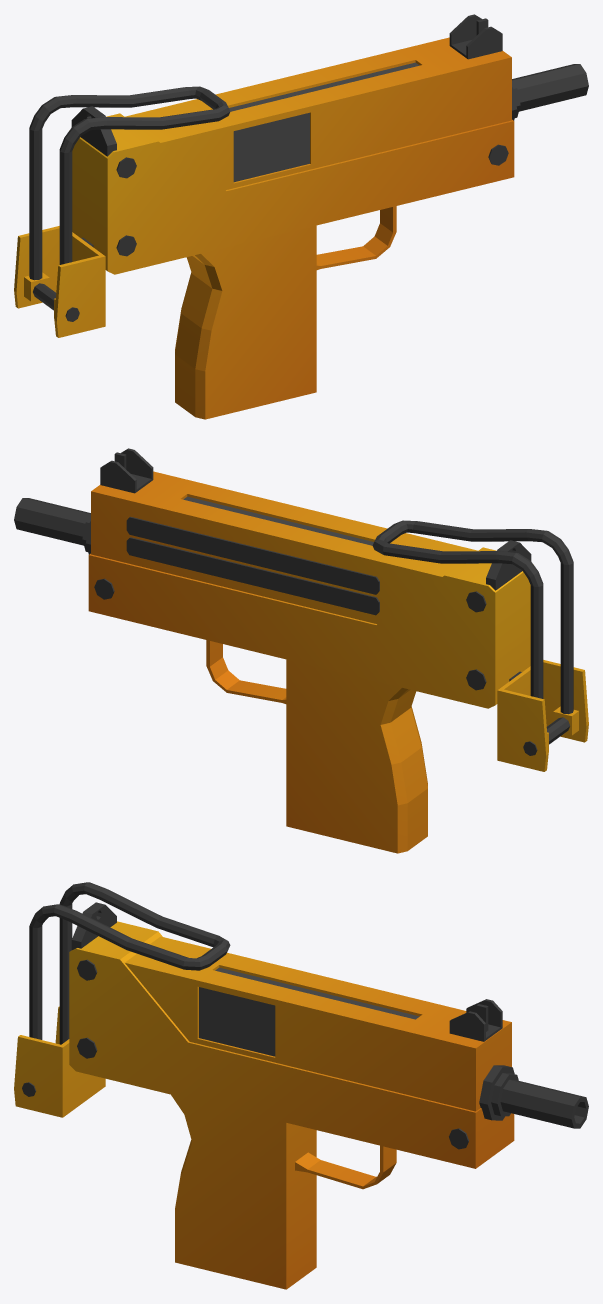
The model's file is SMG1_04.fbx.
3 renders of one model, top to bottom at view 1: azimuth 30°, elevation 25°; view 2: azimuth 150°, elevation 25°; view 3: azimuth 330°, elevation 25°, orthographic.
Visible parts, largest first — view 1: SMG1_04; view 2: SMG1_04; view 3: SMG1_04.
Boxes of the visible parts, bbox=[...] form: SMG1_04: bbox=[14, 14, 588, 419]; SMG1_04: bbox=[14, 448, 588, 853]; SMG1_04: bbox=[14, 882, 588, 1289].
Size of the model in its own units: 0.2805 by 0.162 by 0.0396.
